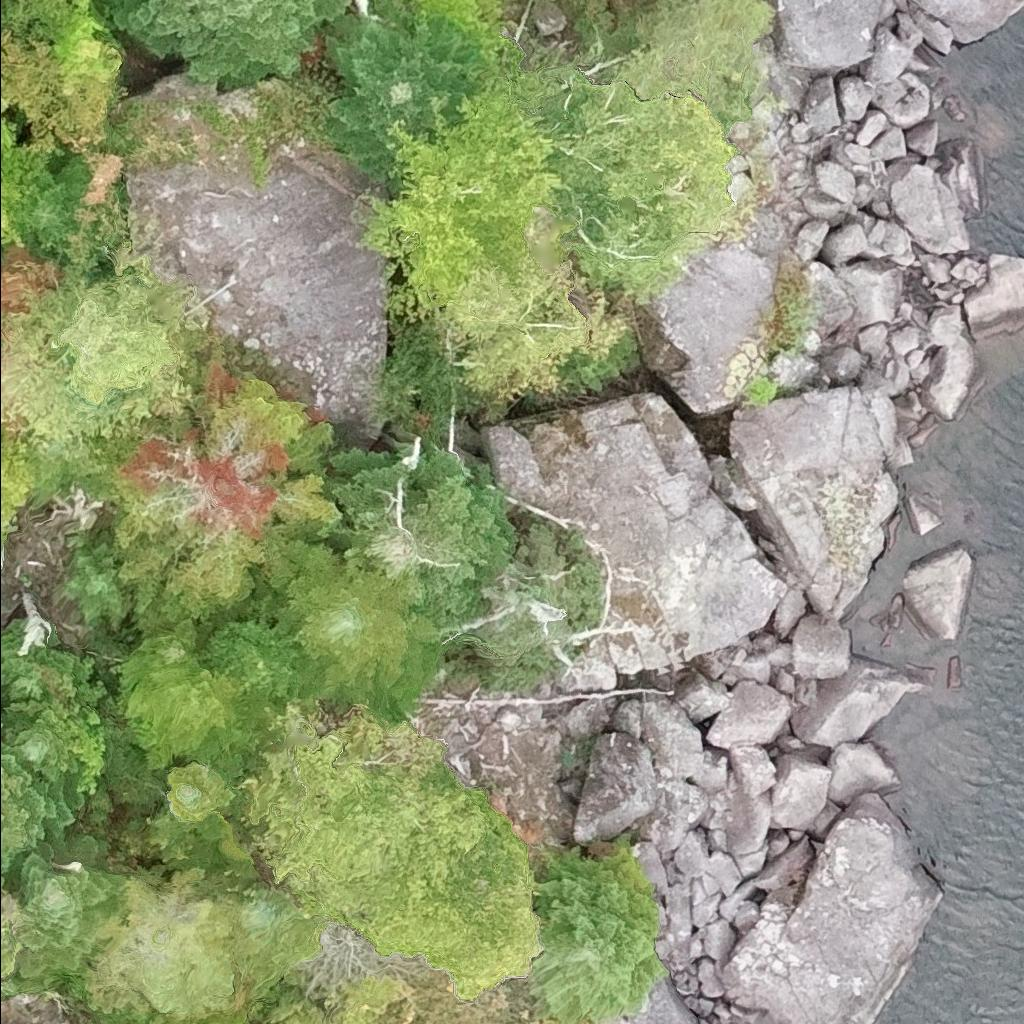crown: (239, 705, 540, 998), (361, 73, 574, 309), (534, 72, 736, 301), (312, 440, 518, 630), (251, 537, 444, 728), (310, 0, 495, 189), (6, 269, 193, 444), (77, 858, 248, 1019), (527, 842, 671, 1023), (121, 654, 284, 790), (108, 0, 352, 87), (0, 829, 127, 993), (441, 252, 588, 390), (0, 715, 85, 892), (145, 759, 251, 868), (206, 616, 314, 713), (231, 881, 318, 985), (60, 532, 135, 638), (24, 140, 91, 255), (0, 697, 80, 780), (0, 116, 50, 247), (122, 617, 207, 691), (51, 0, 122, 82), (0, 616, 43, 706), (179, 1000, 249, 1023), (0, 919, 18, 983), (97, 1010, 180, 1023), (588, 0, 626, 9)
